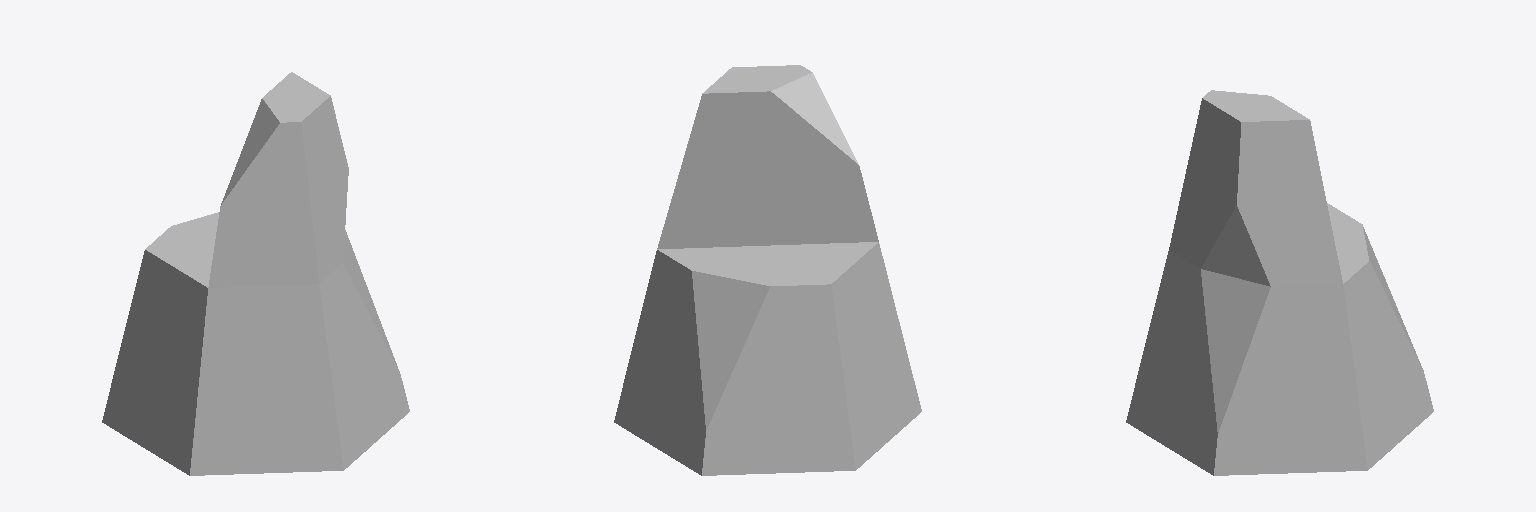
File: stone_tall10.obj
The picture shows the model from 3 angles: view 1: azimuth 30°, elevation 25°; view 2: azimuth 150°, elevation 25°; view 3: azimuth 270°, elevation 25°; orthographic projection.
Parts seen in each view (by area): view 1: stone_tall10; view 2: stone_tall10; view 3: stone_tall10.
Part boxes in pixels (bbox=[...]): stone_tall10: bbox=[102, 72, 409, 475]; stone_tall10: bbox=[614, 65, 921, 475]; stone_tall10: bbox=[1126, 90, 1433, 475].
Size of the model in its own units: 4.88 by 6.2 by 5.38.